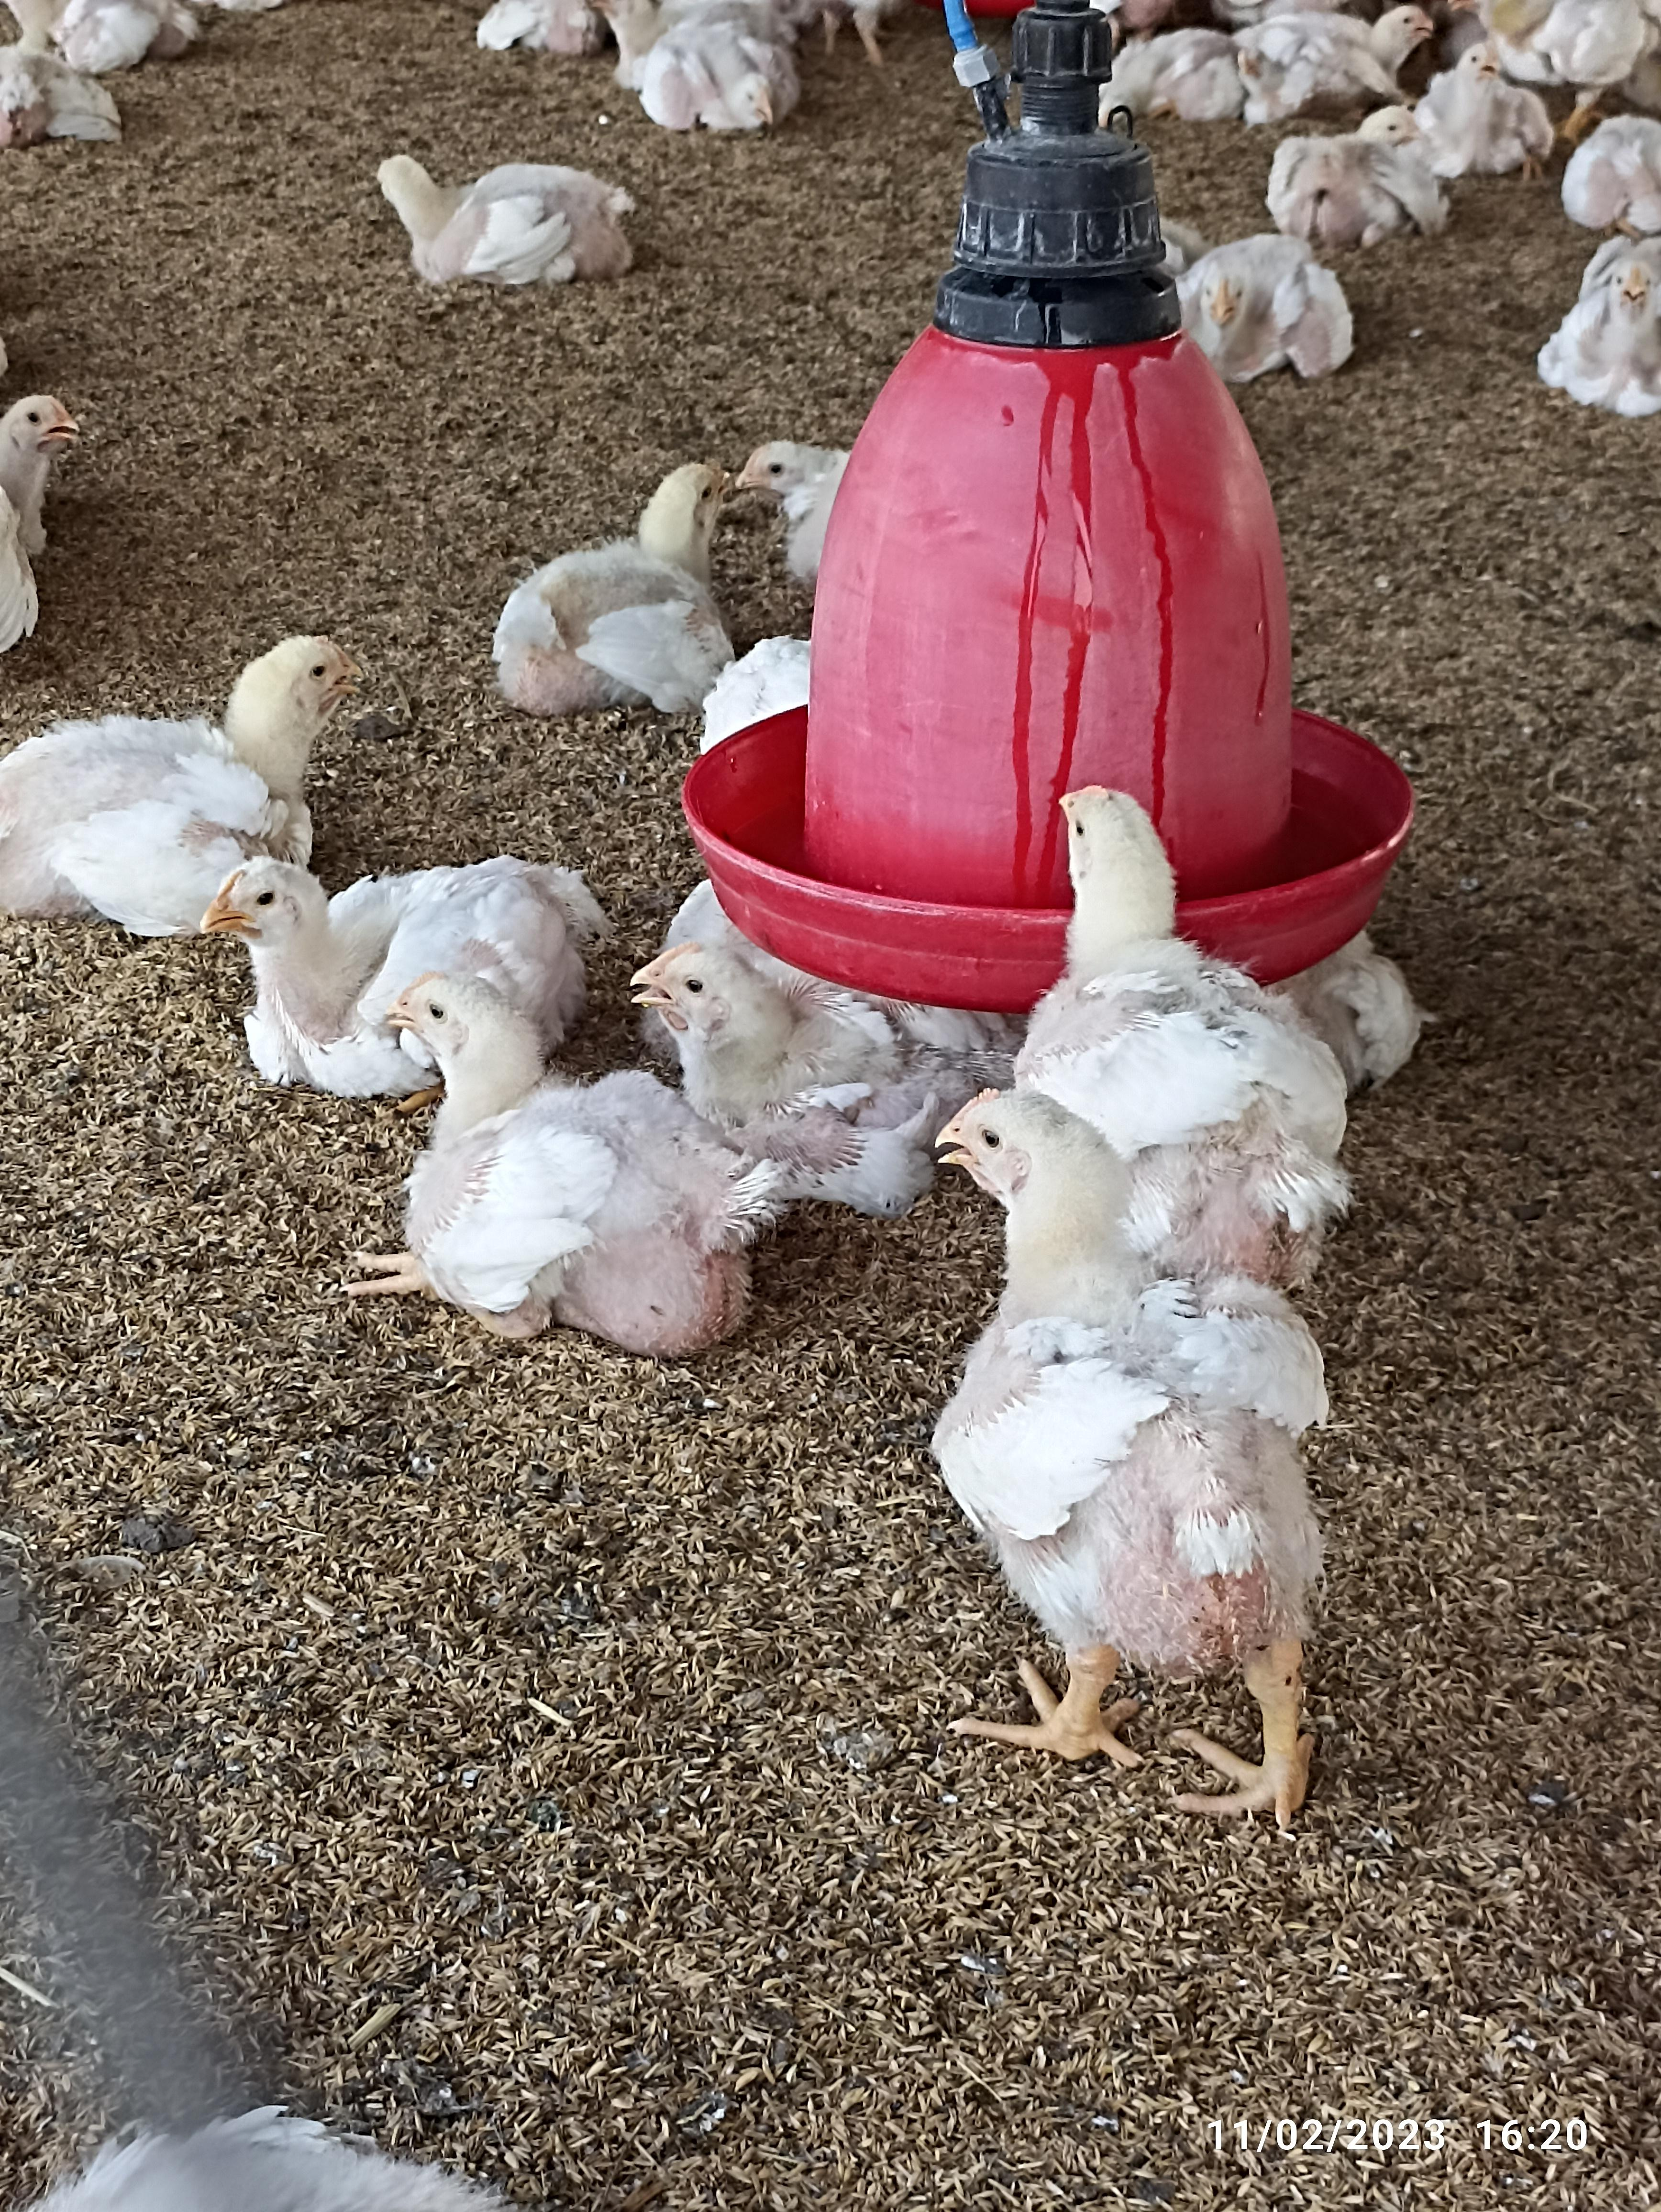Pollos: (926, 1078, 1314, 1649), (384, 968, 666, 1280), (0, 637, 359, 877), (619, 944, 953, 1178), (489, 459, 757, 705), (370, 148, 635, 293), (1176, 246, 1368, 379), (1281, 94, 1436, 229)
